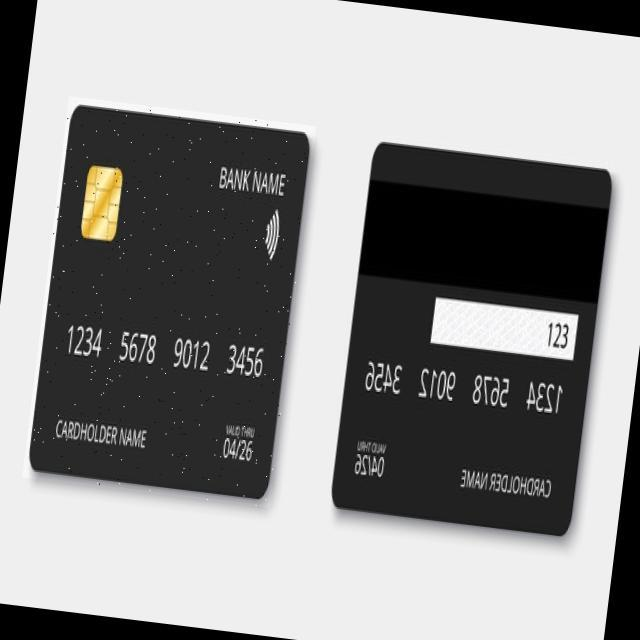payment_card: (28, 101, 311, 500), (330, 140, 613, 536)
